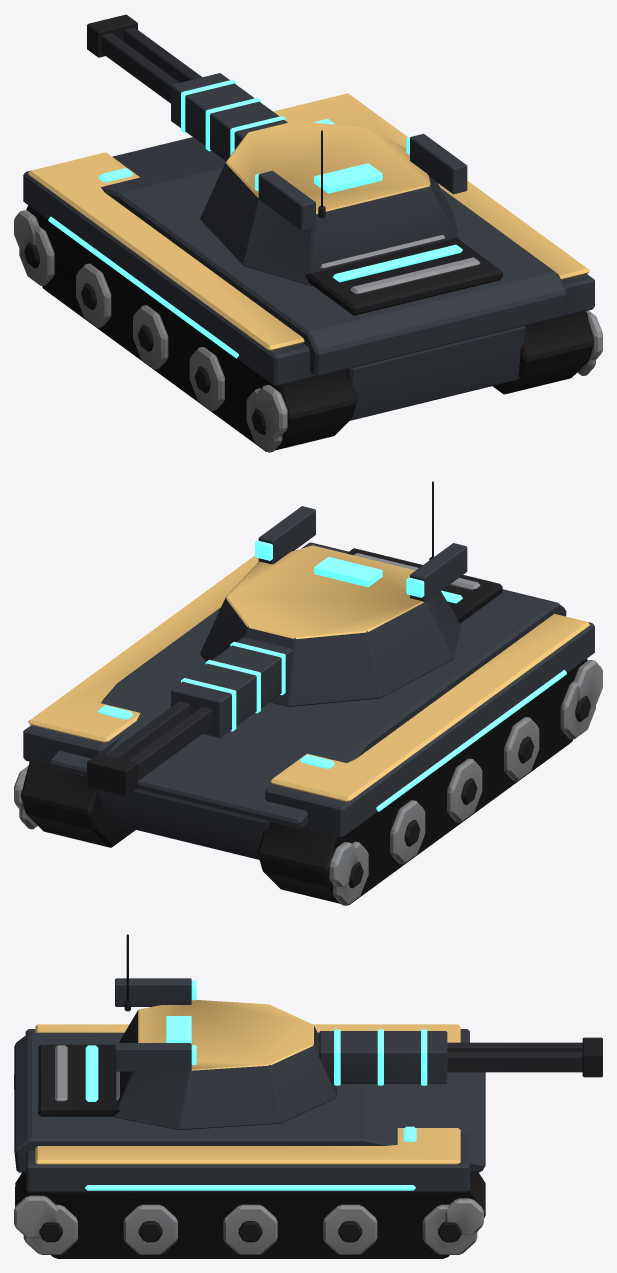
Rendered from tank_battle.glb.
3 views of the same model, one above another, from view 1: azimuth 30°, elevation 25°; view 2: azimuth 150°, elevation 25°; view 3: azimuth 270°, elevation 25° (orthographic). The views are drawn at different scales.
Visible parts, largest first — view 1: tank_battle, Turret; view 2: tank_battle, Turret; view 3: tank_battle, Turret.
Boxes of the visible parts, x1,y1,x2,y2 form: tank_battle: (14, 93, 602, 452); Turret: (87, 14, 467, 285); tank_battle: (14, 542, 602, 905); Turret: (87, 481, 467, 796); tank_battle: (14, 1024, 485, 1258); Turret: (113, 934, 602, 1129).
Size of the model in its own units: 1.32 by 1.02 by 2.31.
